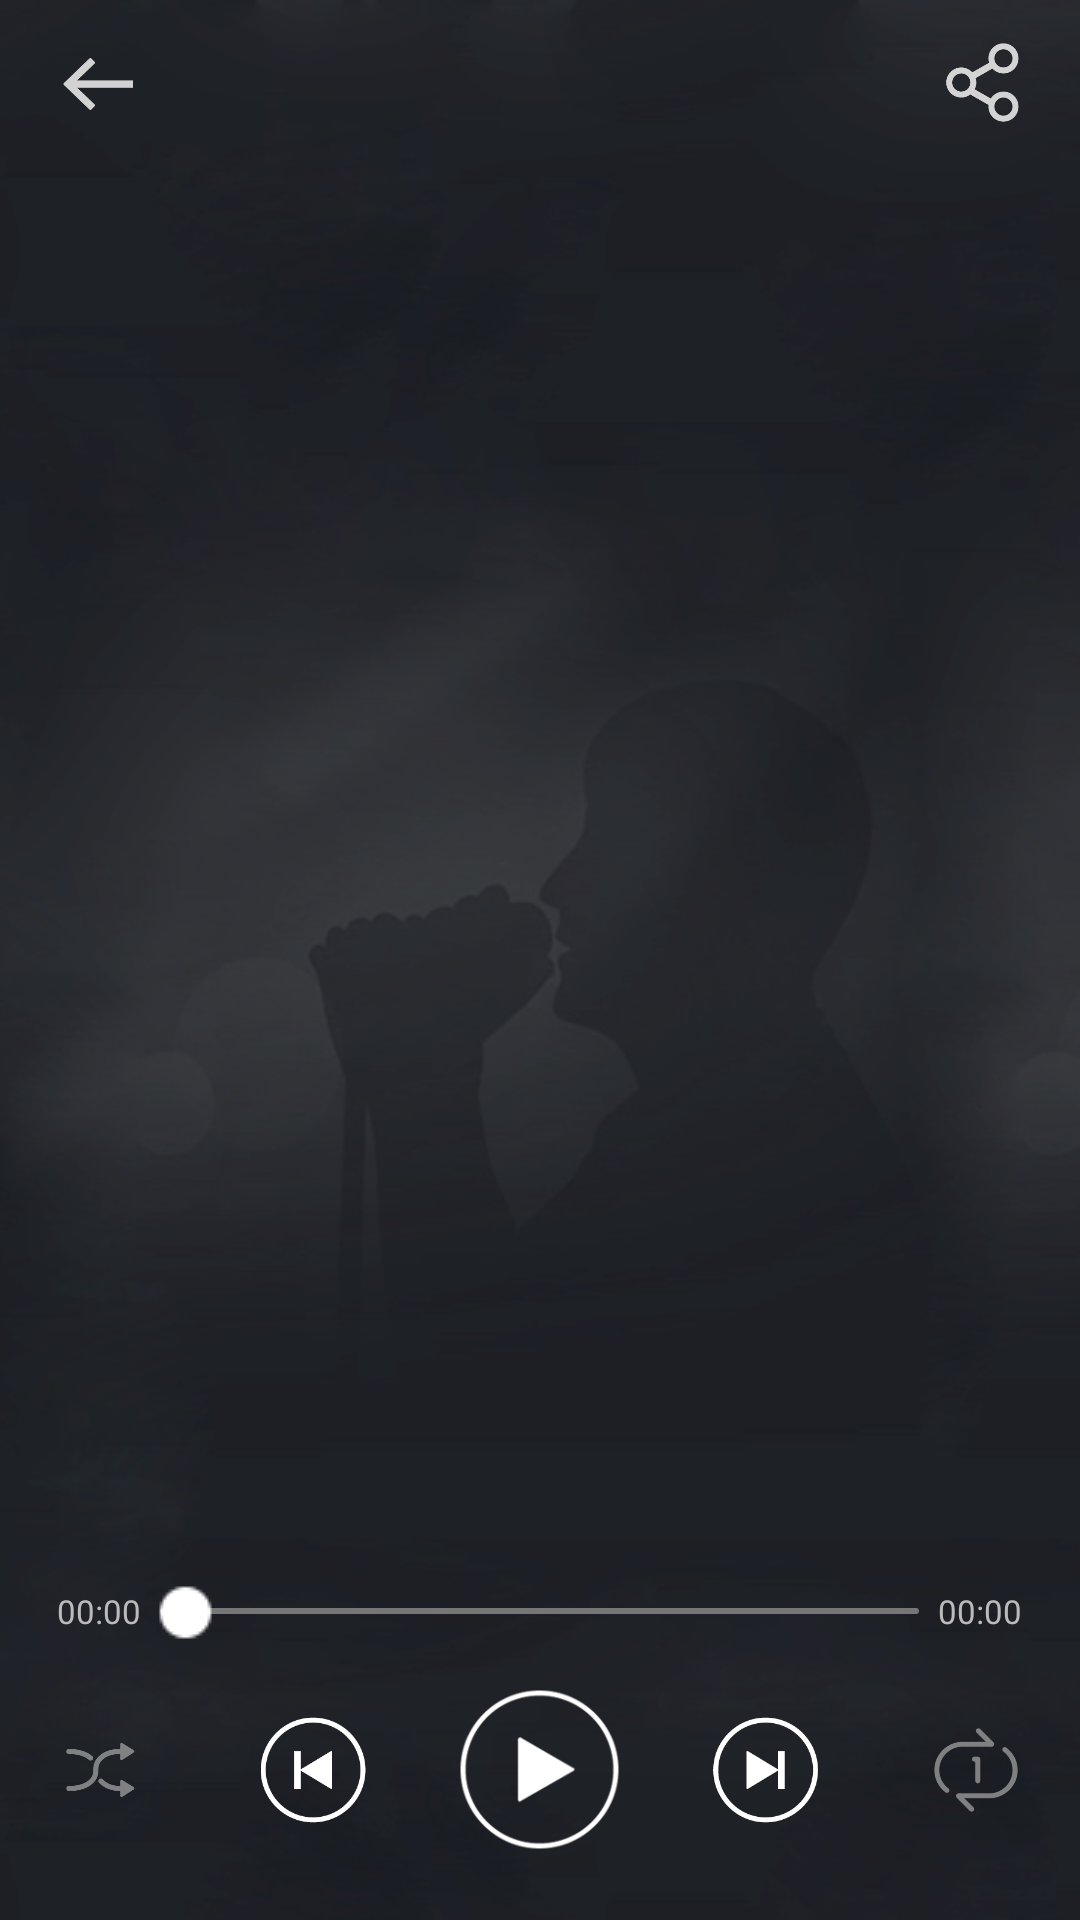

Point at icon controls on the screen. Image size 1080 x 1920, points as (x,y).
left: (98,84)
random: (100,1770)
share: (982,82)
